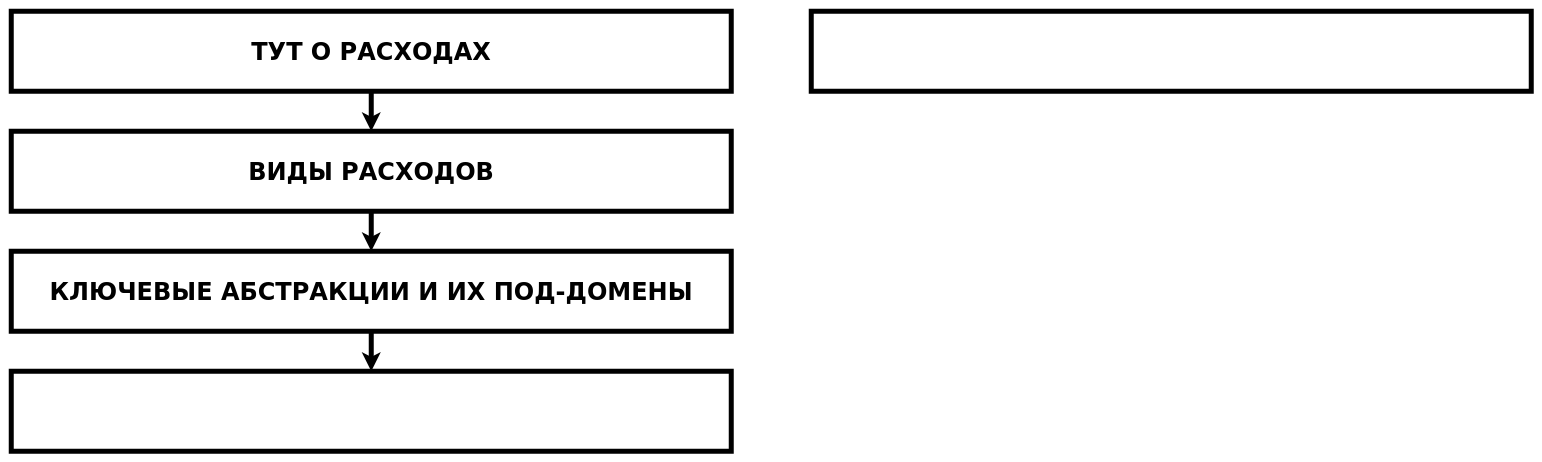
This 1542x462 diagram has some shape labels left out. Each missing label, with the centre of its shape:
"ПРИНЦИПЫ РАЗДЕЛЕНИЯ БЮДЖЕТА (ПРИОРИТЕТЫ)" belongs at [371,411].
"ТУТ О ДОХОДАХ" belongs at [1171,51].
